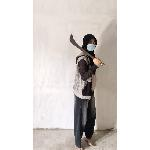Golok: (66, 32, 106, 66)
